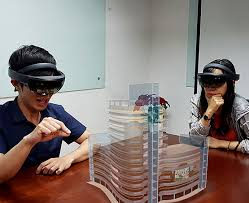hololens: (4, 64, 65, 97), (195, 68, 241, 93)
